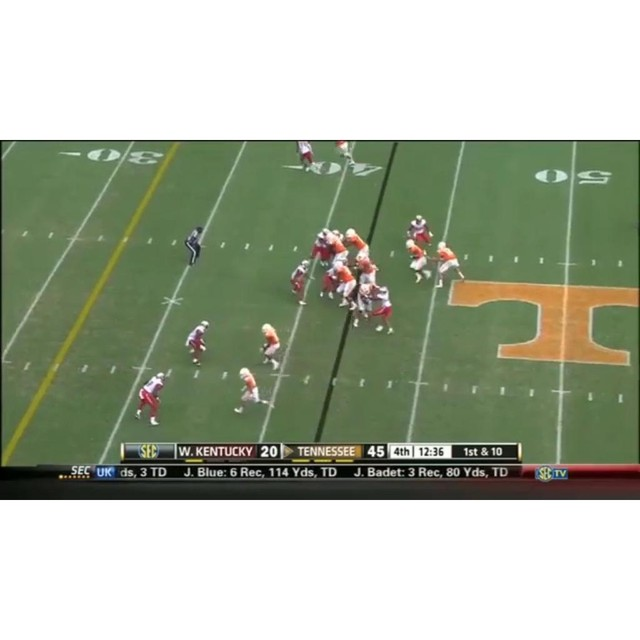american-football-player: (135, 370, 172, 427), (234, 368, 275, 415), (435, 240, 465, 288), (404, 238, 431, 284), (371, 284, 394, 336), (334, 259, 357, 310), (185, 320, 210, 366), (290, 259, 311, 306), (260, 323, 281, 370), (344, 227, 371, 261), (406, 215, 433, 248), (355, 253, 380, 287), (329, 230, 349, 262), (297, 141, 317, 173), (335, 141, 356, 167)
referee: (184, 225, 205, 266)
